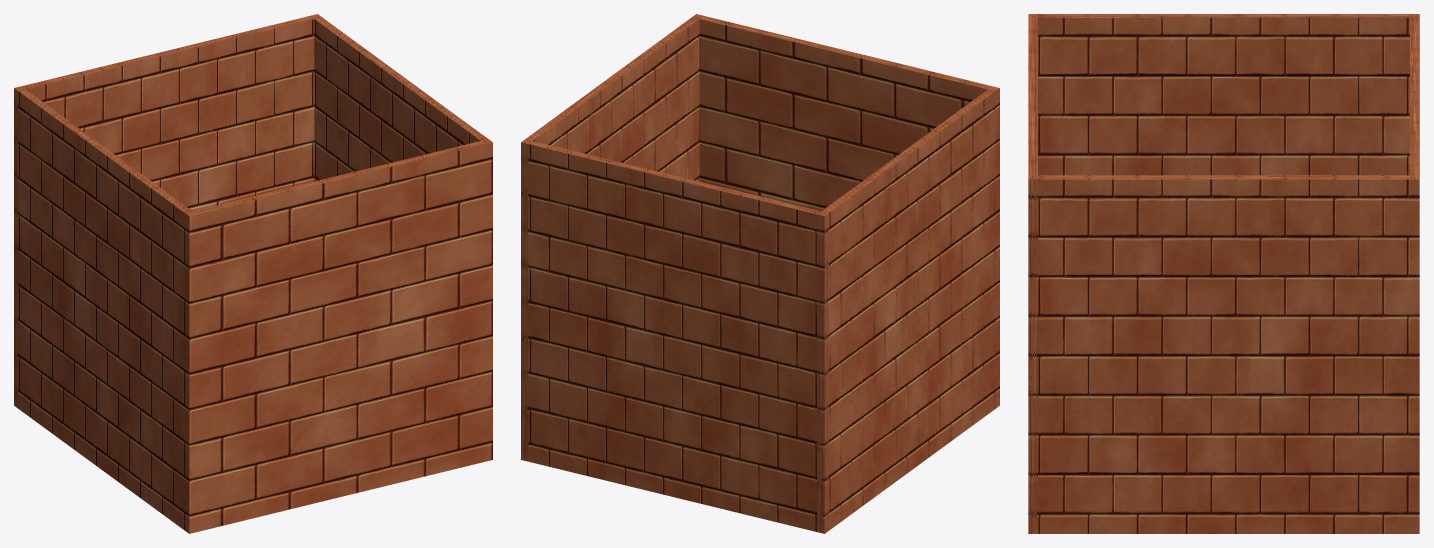
The model's file is BossRoom.fbx.
3 views of the same model, side by side, from view 1: azimuth 30°, elevation 25°; view 2: azimuth 150°, elevation 25°; view 3: azimuth 270°, elevation 25° (orthographic). The views are drawn at different scales.
Parts seen in each view (by area): view 1: Cube.002, Cube.003, Cube.001, Cube; view 2: Cube.001, Cube.003, Cube.002, Cube; view 3: Cube, Cube.003, Cube.002, Cube.001.
Boxes of the visible parts, <box> form: Cube.002: <box>185,139,492,533</box>; Cube.003: <box>16,88,196,533</box>; Cube.001: <box>14,14,317,408</box>; Cube: <box>310,14,492,181</box>; Cube.001: <box>528,141,828,532</box>; Cube.003: <box>817,88,999,533</box>; Cube.002: <box>693,14,999,405</box>; Cube: <box>521,14,703,461</box>; Cube: <box>1028,175,1419,533</box>; Cube.003: <box>1029,14,1418,175</box>; Cube.002: <box>1028,14,1037,533</box>; Cube.001: <box>1410,14,1419,526</box>.
Size of the model in its own units: 20000 by 20000 by 20000.
6 materials, 5 textured.
